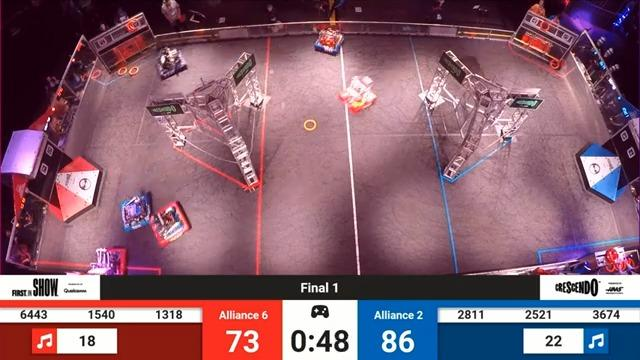robot: (148, 197, 198, 246), (336, 75, 378, 113), (119, 192, 153, 233), (88, 246, 133, 275), (154, 47, 190, 81), (312, 27, 346, 56)
